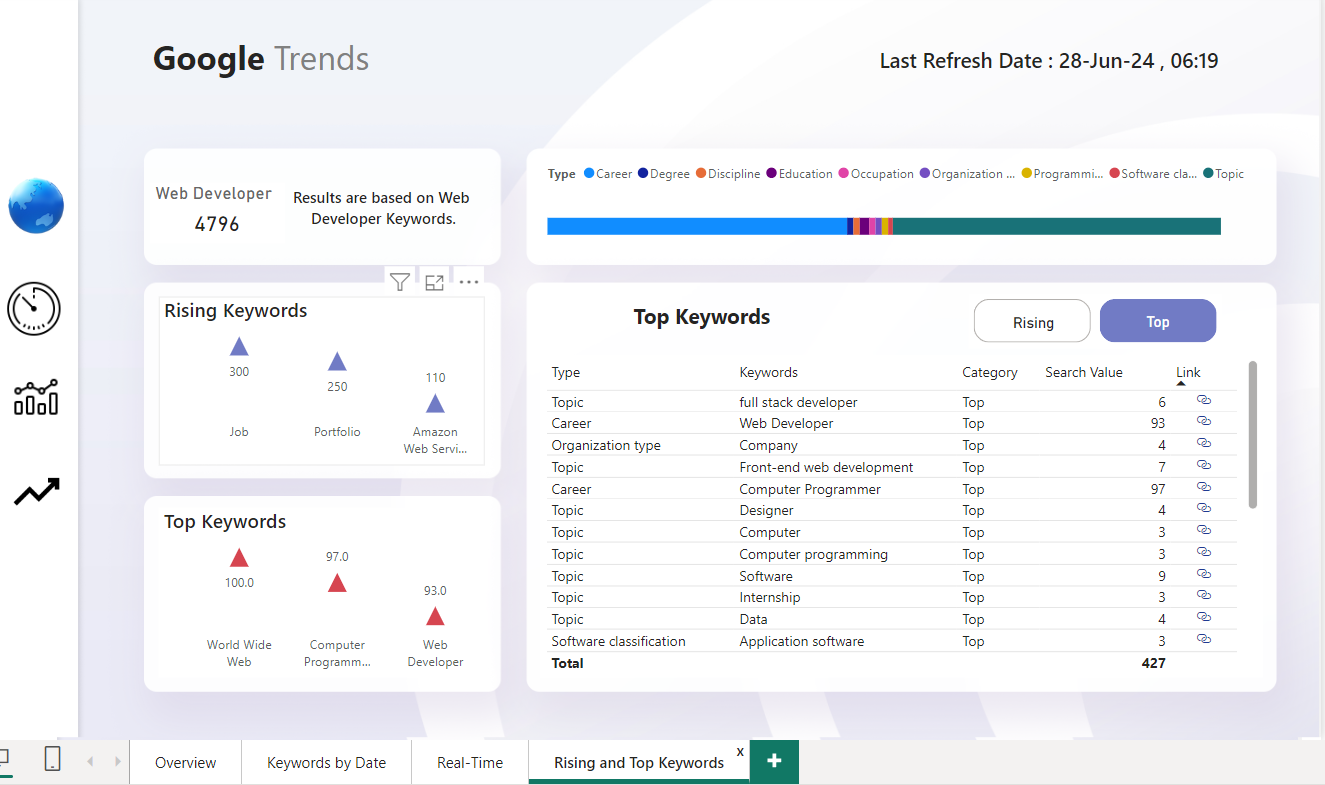

The page's visual inventory and layout, read from the dashboard file:
{"tool":"powerbi","page":{"name":"Rising and Top Keywords","canvas":[1280,720],"ordinal":3},"visuals":[{"type":"card","fields":{"Values":["By_Date_API.Imp_Value"]},"box":[150,182.5,130,58.8],"z":0},{"type":"card","fields":{"Values":["Related_Keywords Main.Imp_Short_Title"]},"box":[257.5,151.2,236.2,110],"z":1000},{"type":"lineChart","title":"Rising Keywords","fields":{"Category":["Rising_Keywords.Title"],"Y":["Sum(Rising_Keywords.Value)"]},"box":[157.5,292.5,315,162.5],"z":2000},{"type":"lineChart","title":"Top Keywords","fields":{"Category":["Top_Keywords.Title"],"Y":["Sum(Top_Keywords.Value)"]},"box":[157.5,496.2,315,163.8],"z":3000},{"type":"barChart","fields":{"Y":["Sum(Rising_Top.Value)"],"Series":["Rising_Top.Type"]},"box":[528.8,153.8,695,107.5],"z":4000},{"type":"tableEx","fields":{"Values":["Rising_Top.Type","Rising_Top.Title","Rising_Top.Category","Sum(Rising_Top.Value)","Rising_Top.Column1.link"]},"box":[526.2,348.8,697.5,311.2],"z":5000},{"type":"advancedSlicerVisual","fields":{"Values":["Rising_Top.Category"]},"box":[940,290,245,52.5],"z":6000},{"type":"card","fields":{"Values":["Rising_Top.Title_TR"]},"box":[526.2,282.5,312.5,60],"z":7000},{"type":"textbox","box":[146.8,34.3,230.5,53.5],"z":8000},{"type":"card","fields":{"Values":["Min(Refresh_Date.Refresh_Date)"]},"box":[819.2,34.3,396.6,64.5],"z":9000},{"type":"image","box":[0,167.5,78.8,73.8],"z":10000},{"type":"image","box":[13.8,453.8,53.8,53.8],"z":11000},{"type":"image","box":[3.8,271,70,66.2],"z":12000},{"type":"image","box":[11.2,360,58.8,58.8],"z":13000}]}

Visuals, with their boxes on the page's 1280x720 design canvas (x1, y1, x2, y2). These are canvas units, not pixel positions in the 1325x785 screenshot, which may show the page scaled, cropped or inside an application window:
card - By_Date_API.Imp_Value: <bbox>150, 182, 280, 241</bbox>
card - Related_Keywords Main.Imp_Short_Title: <bbox>258, 151, 494, 261</bbox>
"Rising Keywords" lineChart: <bbox>158, 292, 472, 455</bbox>
"Top Keywords" lineChart: <bbox>158, 496, 472, 660</bbox>
barChart - Sum(Rising_Top.Value) x Rising_Top.Type: <bbox>529, 154, 1224, 261</bbox>
tableEx - Rising_Top.Type x Rising_Top.Title: <bbox>526, 349, 1224, 660</bbox>
advancedSlicerVisual - Rising_Top.Category: <bbox>940, 290, 1185, 342</bbox>
card - Rising_Top.Title_TR: <bbox>526, 282, 839, 342</bbox>
textbox: <bbox>147, 34, 377, 88</bbox>
card - Min(Refresh_Date.Refresh_Date): <bbox>819, 34, 1216, 99</bbox>
image: <bbox>0, 168, 79, 241</bbox>
image: <bbox>14, 454, 68, 508</bbox>
image: <bbox>4, 271, 74, 337</bbox>
image: <bbox>11, 360, 70, 419</bbox>
